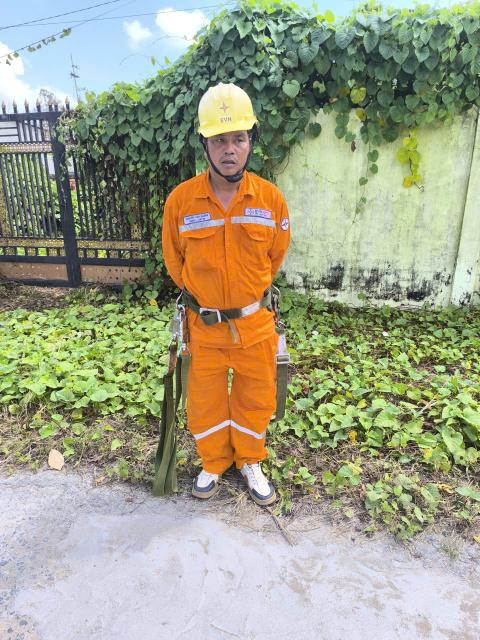harness: (170, 281, 289, 329)
helmet: (183, 75, 273, 148)
shoes: (183, 453, 234, 509), (233, 455, 285, 507)
